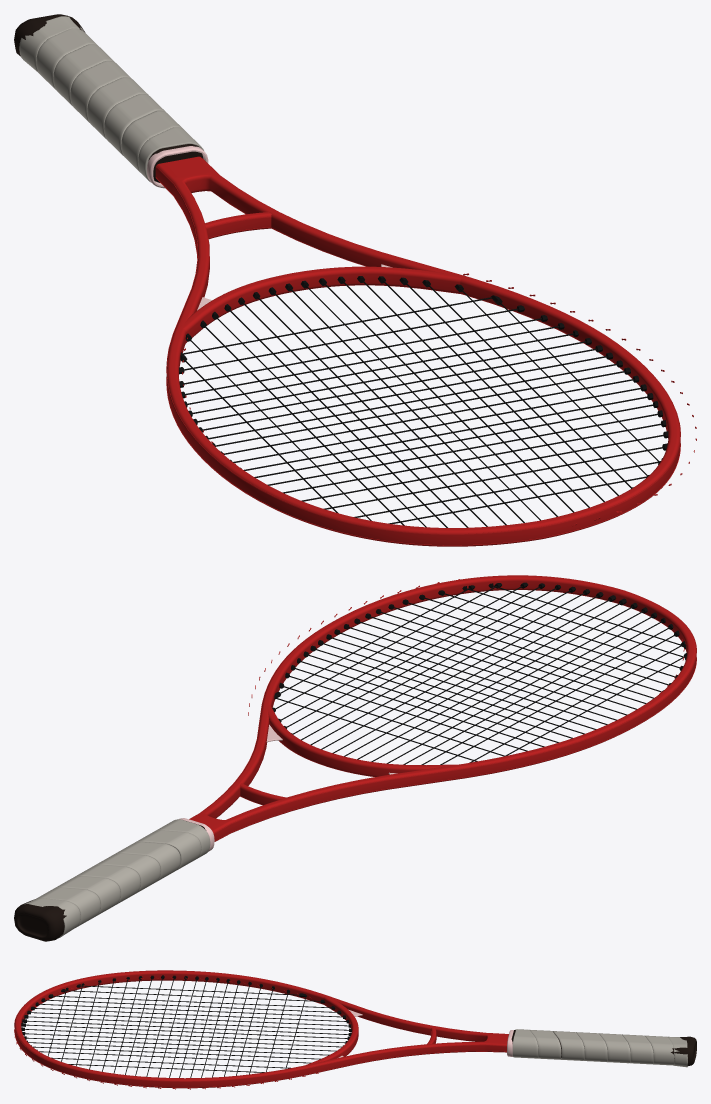
File: bat.FBX
The picture shows the model from 3 angles, top to bottom: view 1: azimuth 30°, elevation 25°; view 2: azimuth 150°, elevation 25°; view 3: azimuth 270°, elevation 25°; orthographic projection. The views are drawn at different scales.
Parts seen in each view (by area): view 1: Arch27_003_06, Arch27_003_04, Arch27_003_05, Arch27_003_00; view 2: Arch27_003_06, Arch27_003_04, Arch27_003_05, Arch27_003_00; view 3: Arch27_003_06, Arch27_003_04, Arch27_003_05, Arch27_003_00, Arch27_003_03.
Part boxes in pixels (bbox=[...]): Arch27_003_06: bbox=[155, 156, 680, 546]; Arch27_003_04: bbox=[179, 276, 668, 527]; Arch27_003_05: bbox=[19, 16, 203, 182]; Arch27_003_00: bbox=[14, 14, 203, 182]; Arch27_003_06: bbox=[189, 575, 696, 841]; Arch27_003_04: bbox=[272, 582, 686, 764]; Arch27_003_05: bbox=[24, 819, 210, 938]; Arch27_003_00: bbox=[14, 821, 206, 941]; Arch27_003_06: bbox=[14, 970, 508, 1088]; Arch27_003_04: bbox=[21, 975, 351, 1077]; Arch27_003_05: bbox=[512, 1029, 687, 1067]; Arch27_003_00: bbox=[511, 1029, 696, 1065]; Arch27_003_03: bbox=[14, 977, 318, 1089].
Bounding box in the file's own units: 10.56 × 0.957 × 26.43.
